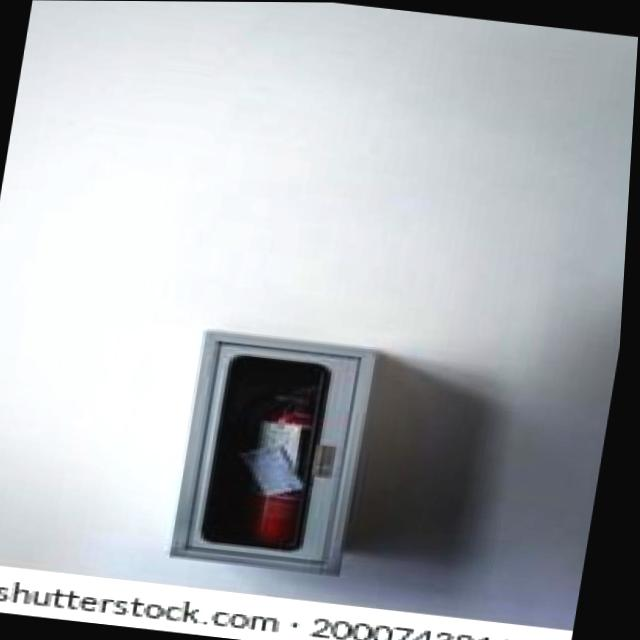FireExtinguisher: (217, 357, 348, 558)
